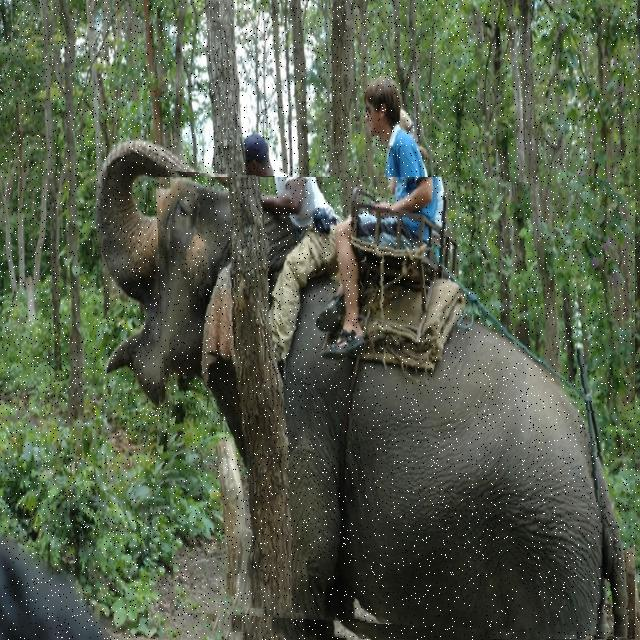elephant: (154, 177, 635, 640)
